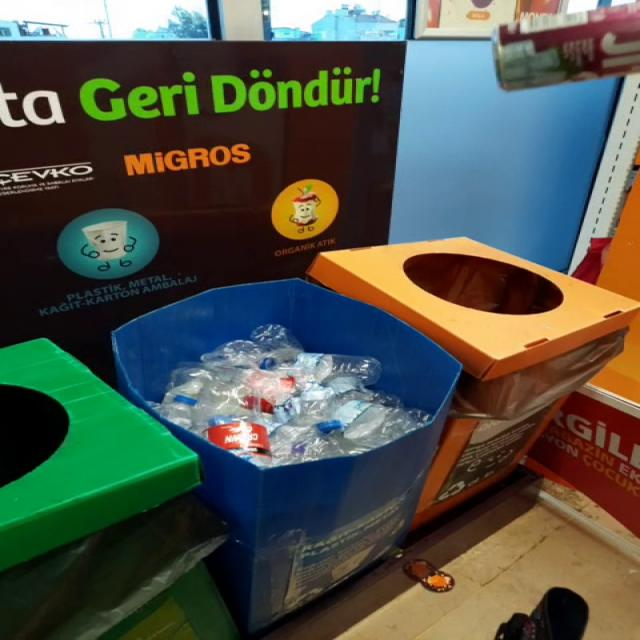bin: (112, 238, 640, 632)
metal: (497, 3, 640, 89)
